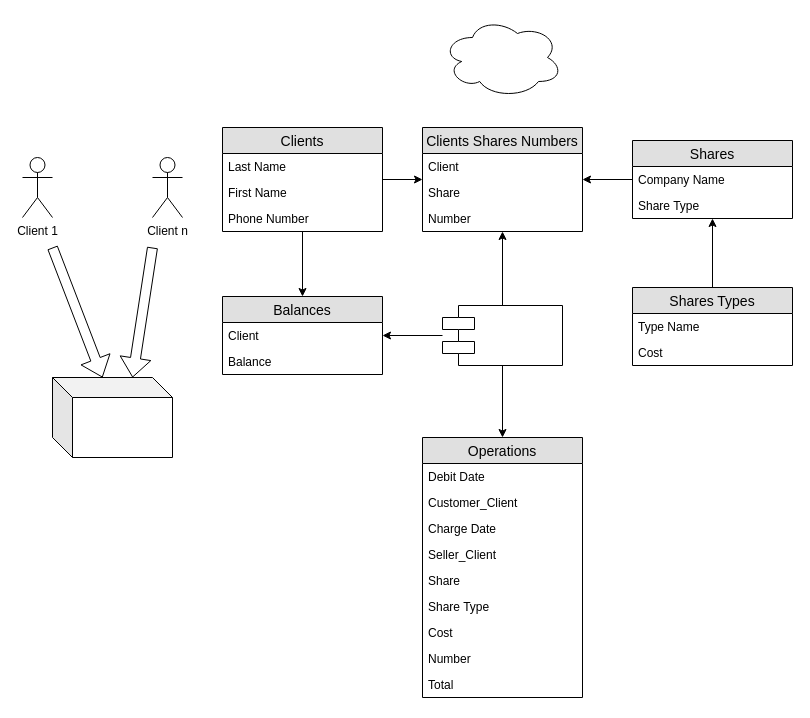
Some shapes in this 810 by 718 pixel diagram are drawn without their labels. Here are the shapes that lost their labels. From the top down, the centre of each, then its label:
the point at 502,57: Traiding app
the point at 502,335: Sale Handler
the point at 112,417: Stock Exchange
